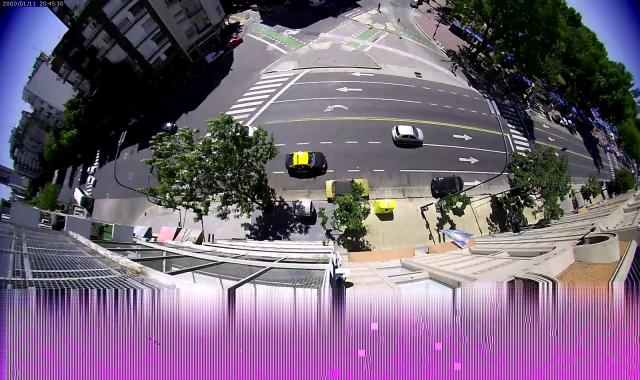bus: (74, 187, 94, 208)
car: (325, 178, 370, 198), (285, 151, 327, 171), (391, 125, 424, 143), (431, 176, 463, 194), (231, 124, 258, 138), (204, 50, 224, 63), (160, 122, 178, 134), (226, 37, 243, 49), (309, 0, 326, 8), (87, 176, 96, 186), (260, 6, 274, 12), (552, 114, 561, 122), (87, 167, 97, 174), (566, 120, 574, 127), (560, 118, 567, 125), (604, 144, 608, 148), (599, 141, 602, 145), (602, 143, 604, 147)
